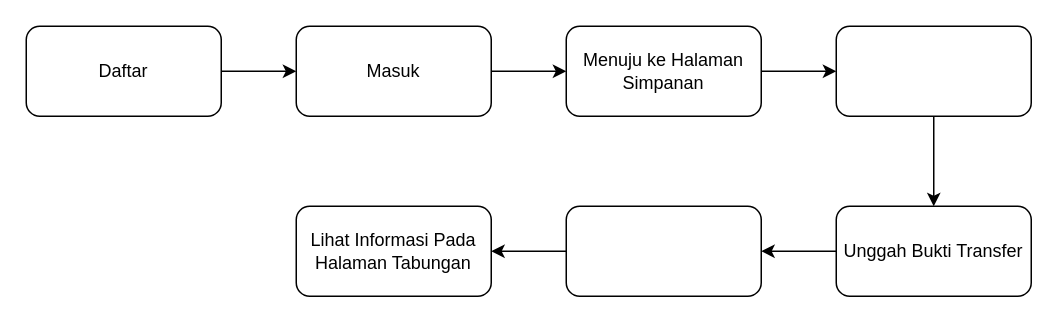
This 1058x335 diagram has some shape labels left out. The centre of each missing label's shape, as x and y in pixels:
Isi Data dengan Benar: the point at 933,70
Tekan Tombol Simpan: the point at 663,250
